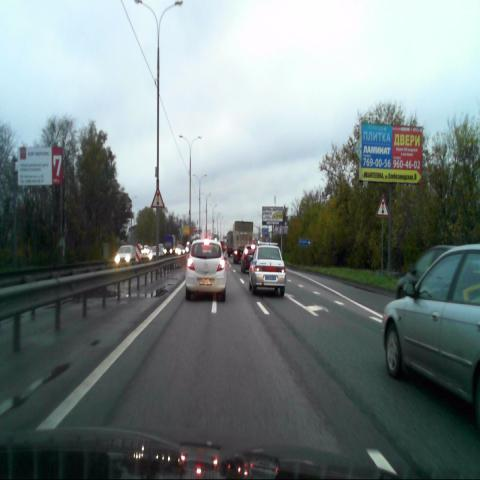1_8: (376, 193, 389, 217), (151, 187, 165, 208)
